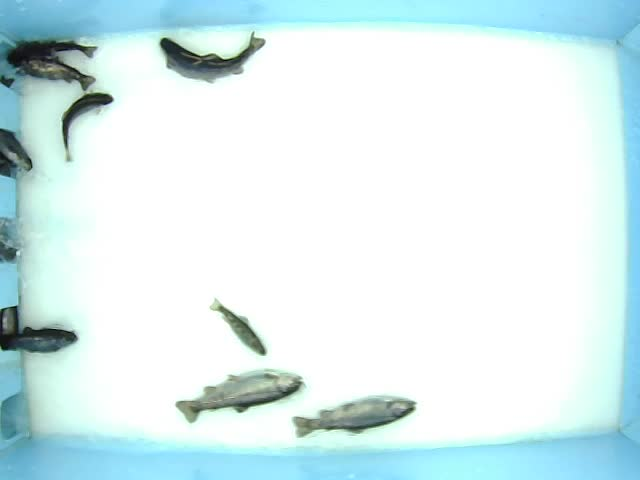fish: (176, 370, 305, 423), (289, 393, 421, 440), (158, 30, 266, 84), (58, 91, 115, 164), (206, 297, 271, 358), (16, 58, 96, 93), (3, 38, 100, 64)
